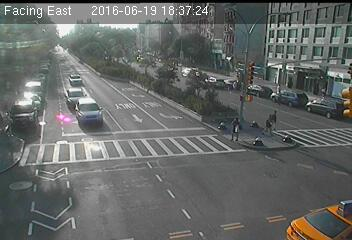neg: (186, 69, 197, 84), (275, 74, 285, 88)
pos: (227, 115, 247, 141), (267, 107, 286, 132), (263, 120, 274, 134), (319, 85, 328, 98)
